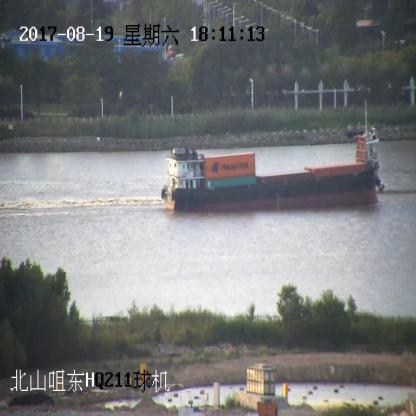Container Ship: (160, 100, 384, 212)
